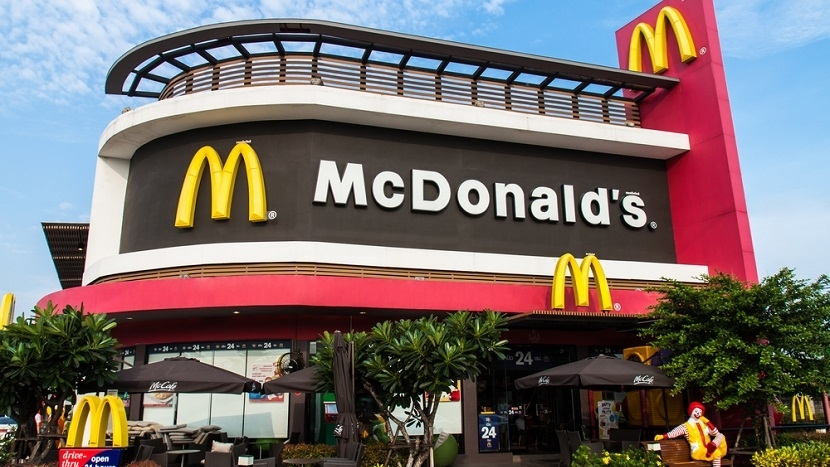mcdonalds: (173, 139, 271, 235), (622, 3, 701, 75), (548, 250, 615, 317)
